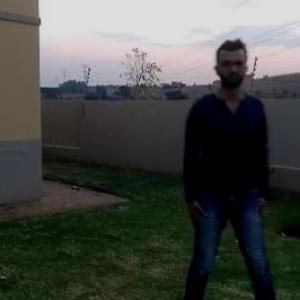follow: (177, 34, 263, 299)
